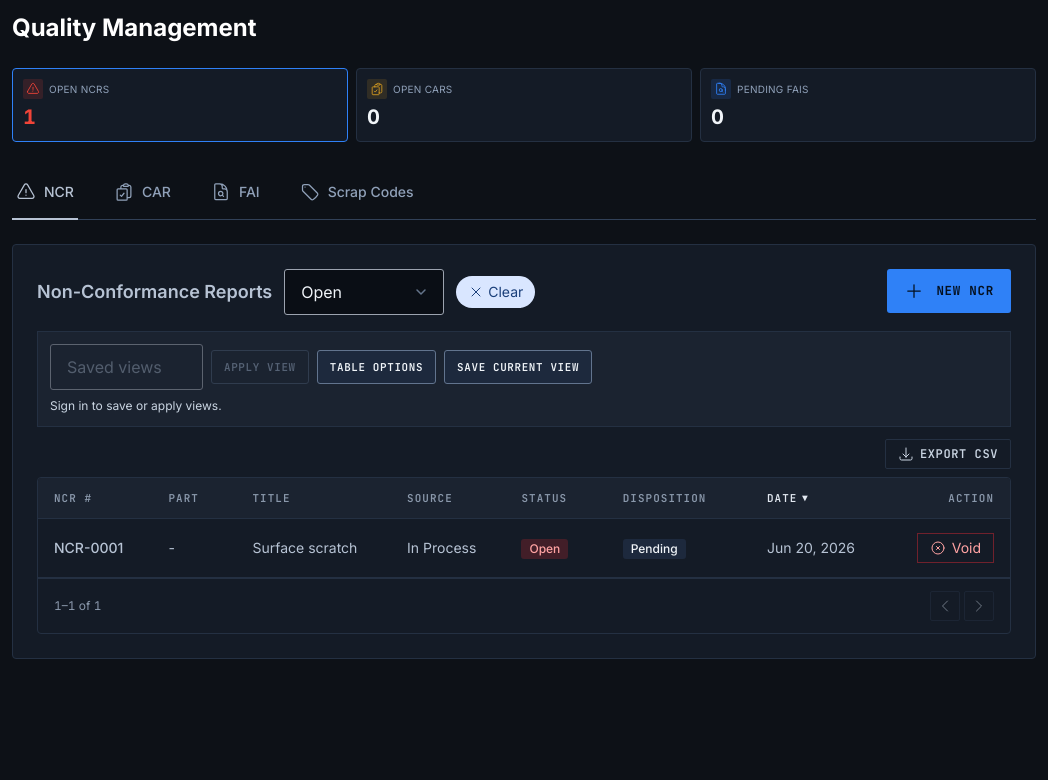
Test: Quality — NCR void › keeps voided records out of the default queue and offers View when explicitly included
Expected: the text "NCR-VOID" is not shown
Select "Void" in the dropdown named "NCR status". click: (364, 292)
box: [284,269,444,315]
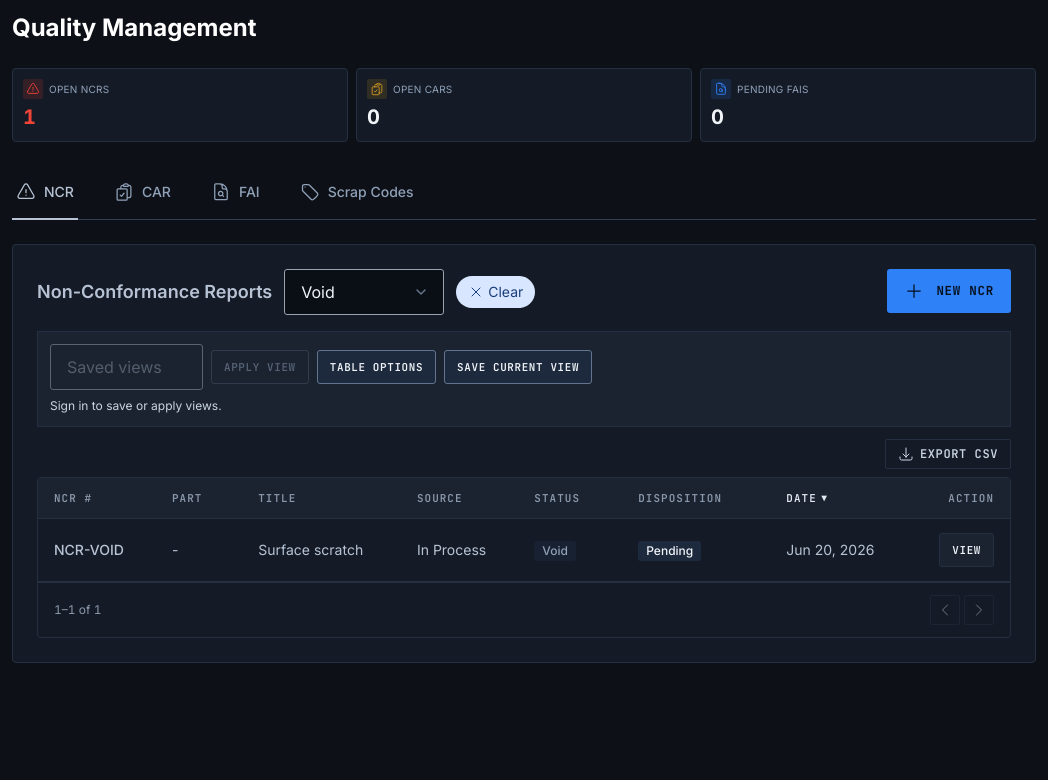
Expected: the number of buttons named "View NCR NCR-VOID" is 2
